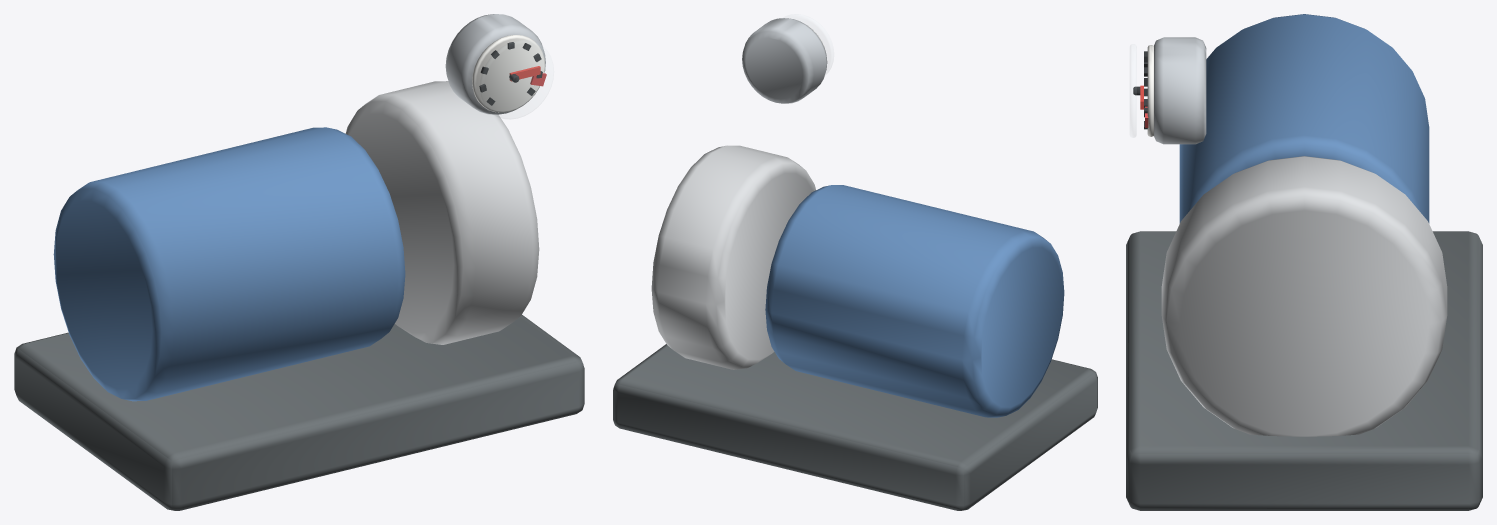
Rendered from bomba.glb.
3 views of the same model, side by side, from view 1: azimuth 30°, elevation 25°; view 2: azimuth 150°, elevation 25°; view 3: azimuth 270°, elevation 25° (orthographic). The views are drawn at different scales.
Parts seen in each view (by area): view 1: motor, bancada, voluta, mano_bomba_esfera, mano_bomba_caja; view 2: motor, bancada, voluta, mano_bomba_caja; view 3: voluta, bancada, motor, mano_bomba_caja, mano_bomba_esfera.
Boxes of the visible parts, x1,y1,x2,y2 form: motor: (53, 127, 405, 401); bancada: (14, 315, 584, 510); voluta: (345, 81, 539, 344); mano_bomba_esfera: (472, 35, 545, 112); mano_bomba_caja: (445, 14, 545, 114); motor: (765, 185, 1064, 417); bancada: (613, 344, 1097, 510); voluta: (651, 145, 815, 369); mano_bomba_caja: (742, 18, 827, 103); voluta: (1161, 156, 1447, 436); bancada: (1126, 231, 1482, 510); motor: (1179, 14, 1429, 223); mano_bomba_caja: (1154, 37, 1206, 144); mano_bomba_esfera: (1147, 45, 1153, 136).
Size of the model in its own units: 0.3 by 0.27 by 0.2.
